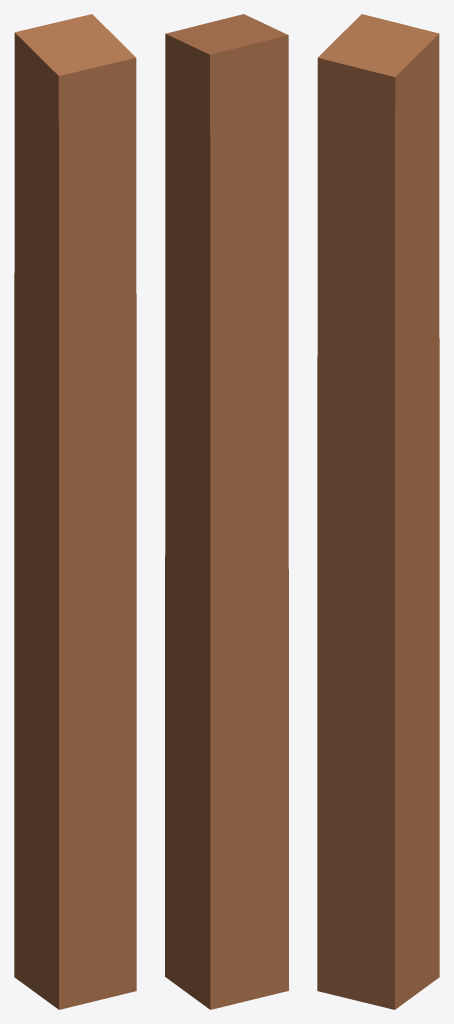
Rendered from fence.fbx.
3 views of the same model, side by side, from view 1: azimuth 30°, elevation 25°; view 2: azimuth 210°, elevation 25°; view 3: azimuth 330°, elevation 25° (orthographic).
Visible parts, largest first — view 1: fence; view 2: fence; view 3: fence.
Part boxes in pixels (x1=…): fence: x1=14, y1=14, x2=136, y2=1009; fence: x1=165, y1=14, x2=288, y2=1009; fence: x1=317, y1=14, x2=439, y2=1009.
Bounding box in the file's own units: 200 × 2329 × 200.
